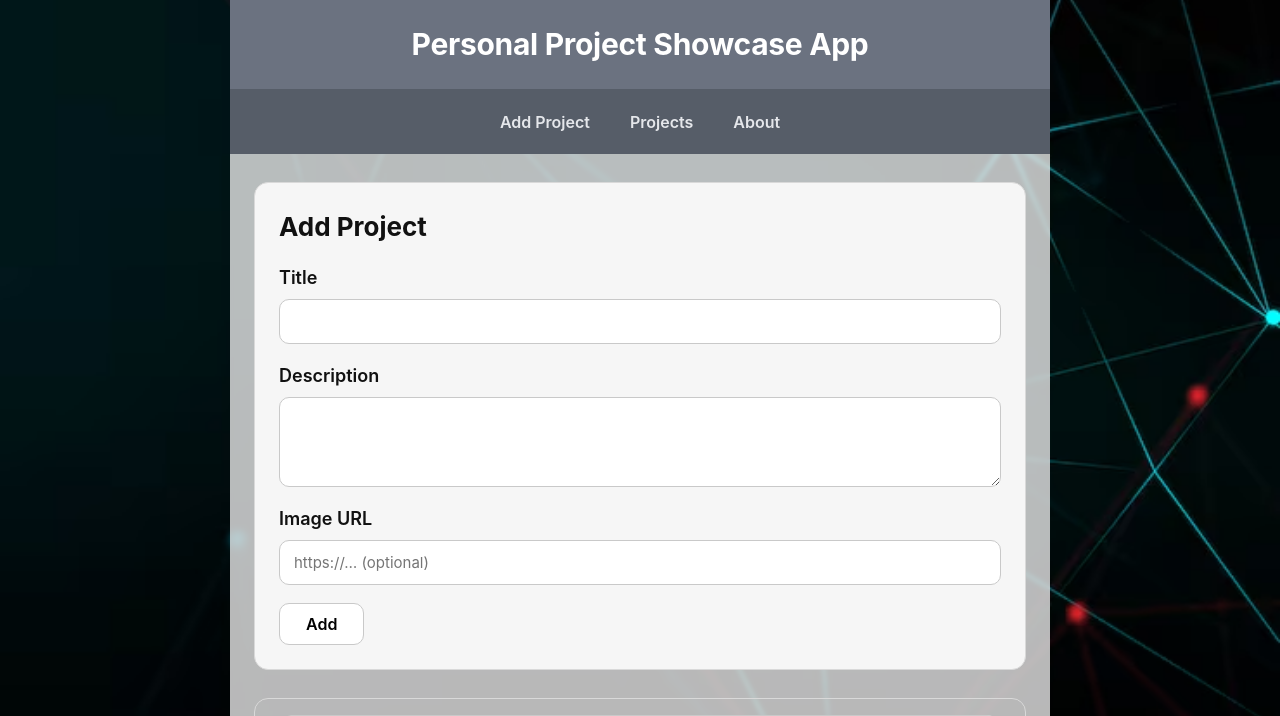
Test case: App (routing + CRUD) › routes to the About page through the nav
The width and height of the screenshot is (1280, 716).
Click the link "About": point(757, 122) [733,112,780,132]
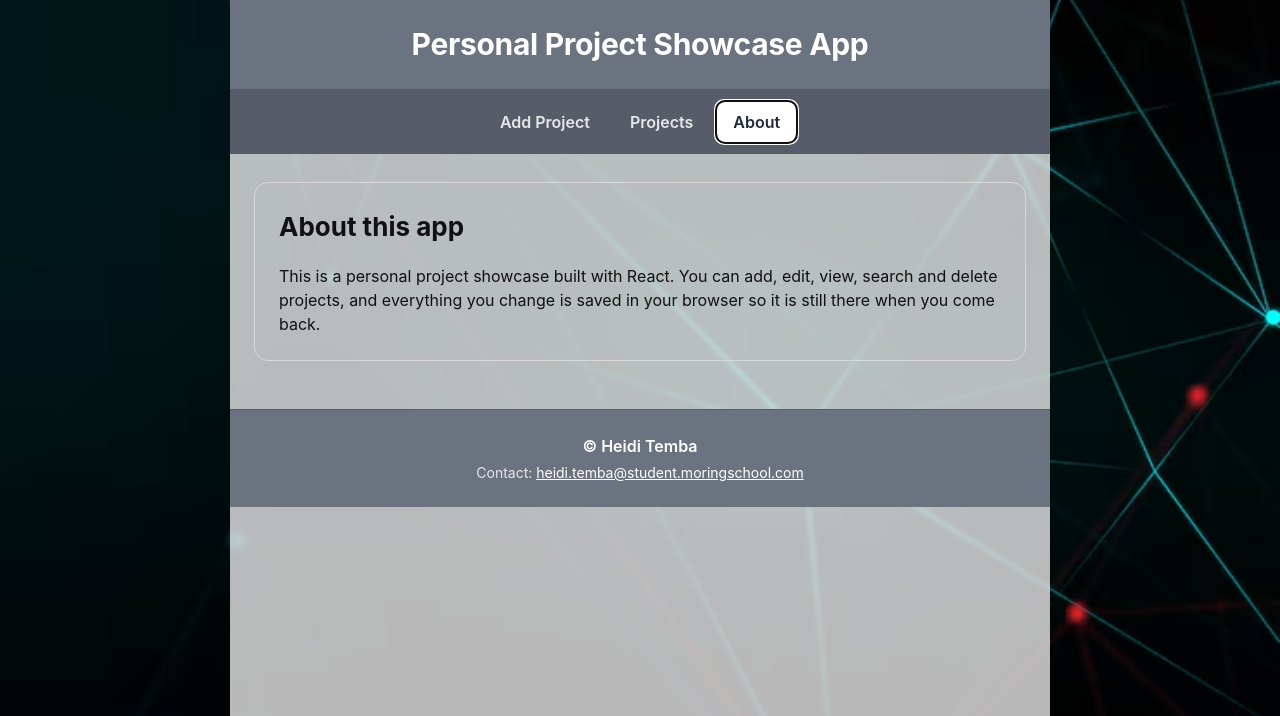
Expected: the heading "About this app" is shown, [279,211,464,242]
